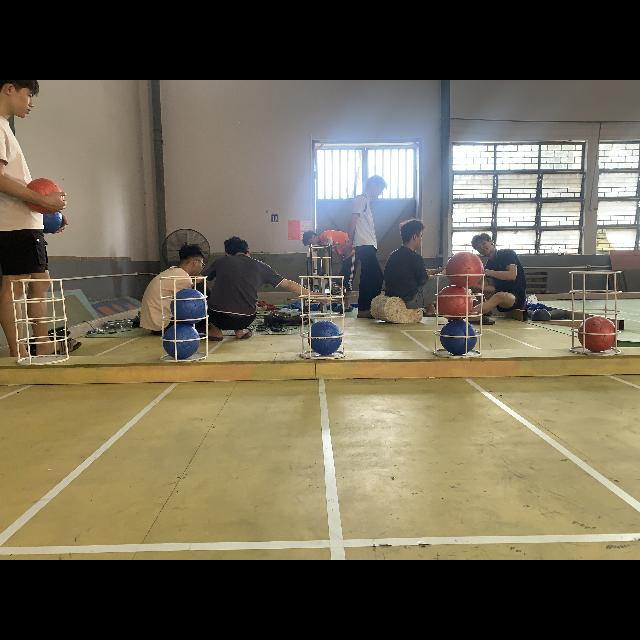B: (441, 318, 479, 356), (168, 288, 208, 324), (162, 324, 200, 358), (306, 320, 344, 354), (40, 210, 64, 234)
R: (25, 177, 63, 215), (578, 316, 618, 352), (448, 252, 482, 290), (437, 286, 471, 318)
